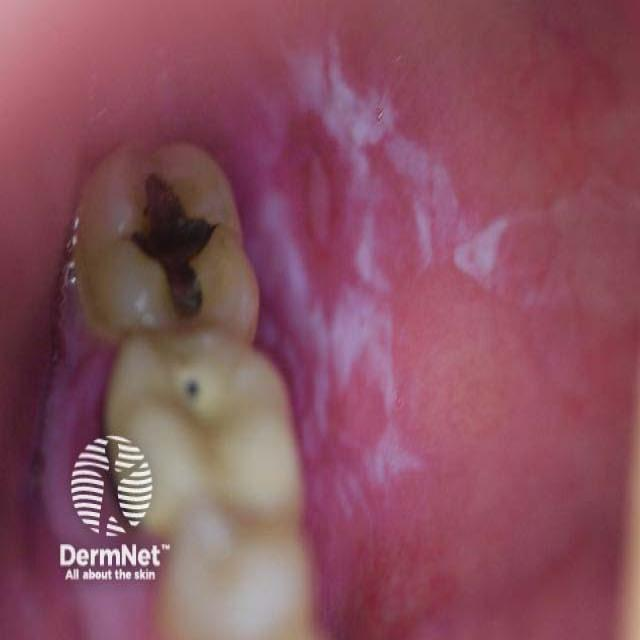leukoplakia-like-detection: (207, 32, 534, 534)
processing_area: (201, 0, 639, 638)
